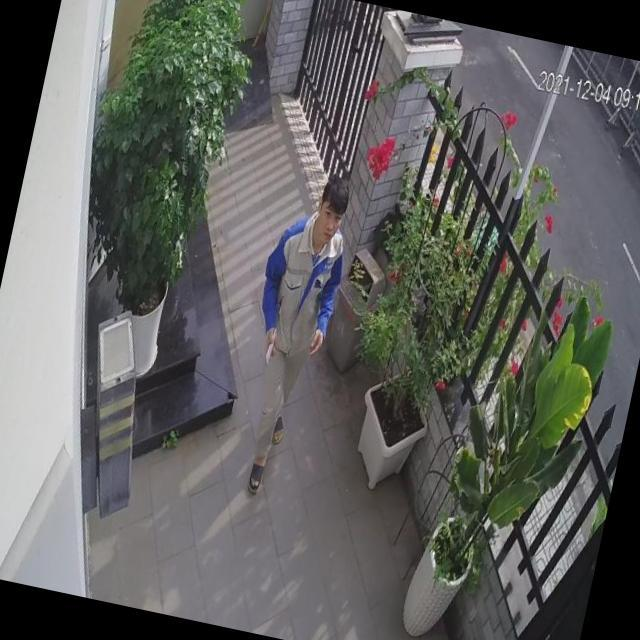person: (220, 164, 364, 502)
